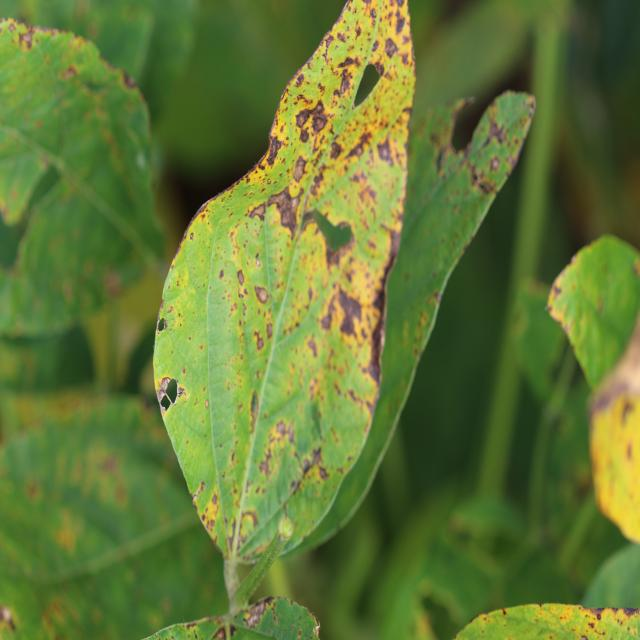Bacterial_Blight: (330, 287, 364, 342), (265, 190, 301, 236), (295, 99, 328, 144), (479, 110, 511, 152), (156, 376, 186, 411), (383, 217, 403, 267), (470, 167, 498, 195), (243, 599, 268, 628), (305, 444, 325, 473), (376, 135, 396, 164), (264, 134, 281, 167), (258, 446, 276, 477), (327, 243, 345, 271), (338, 69, 354, 98), (366, 357, 381, 385), (247, 201, 265, 222), (240, 509, 258, 530), (621, 399, 636, 424), (292, 156, 306, 181), (384, 37, 398, 58), (275, 419, 289, 438), (20, 27, 34, 46), (60, 65, 77, 80), (255, 285, 268, 304)
Soybean: (155, 0, 415, 610)
